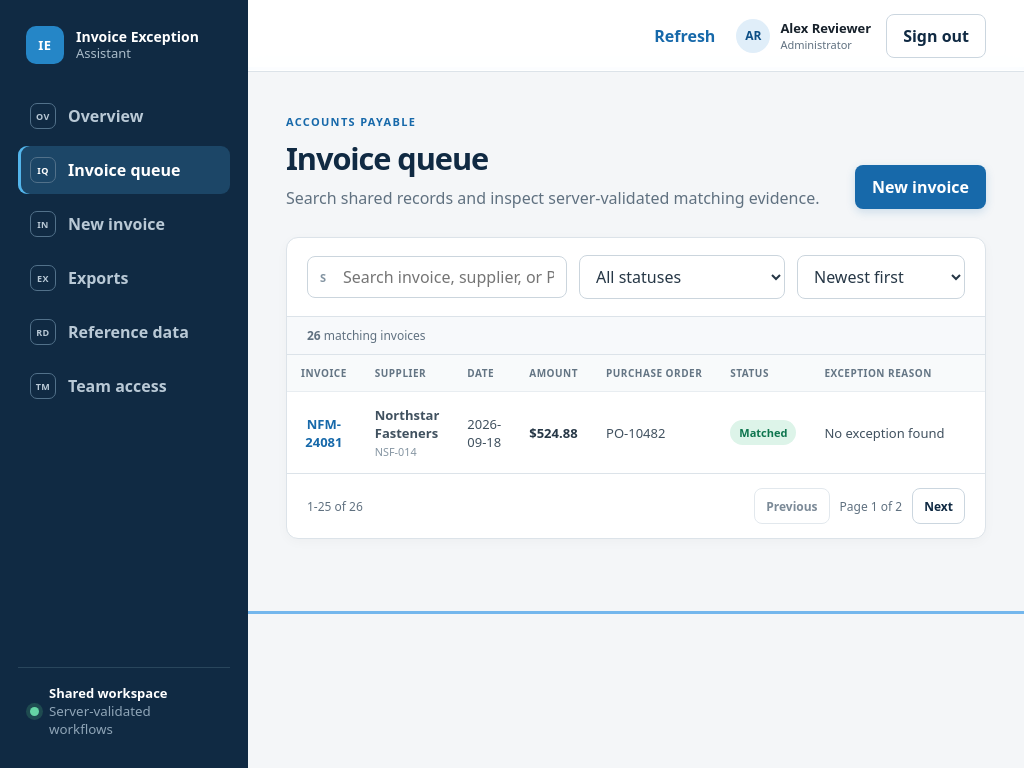
Scenario: dashboard and invoice queue › paginates large queues and displays request failures
Click the button "Next". click: (939,506)
box: [912,488,965,524]
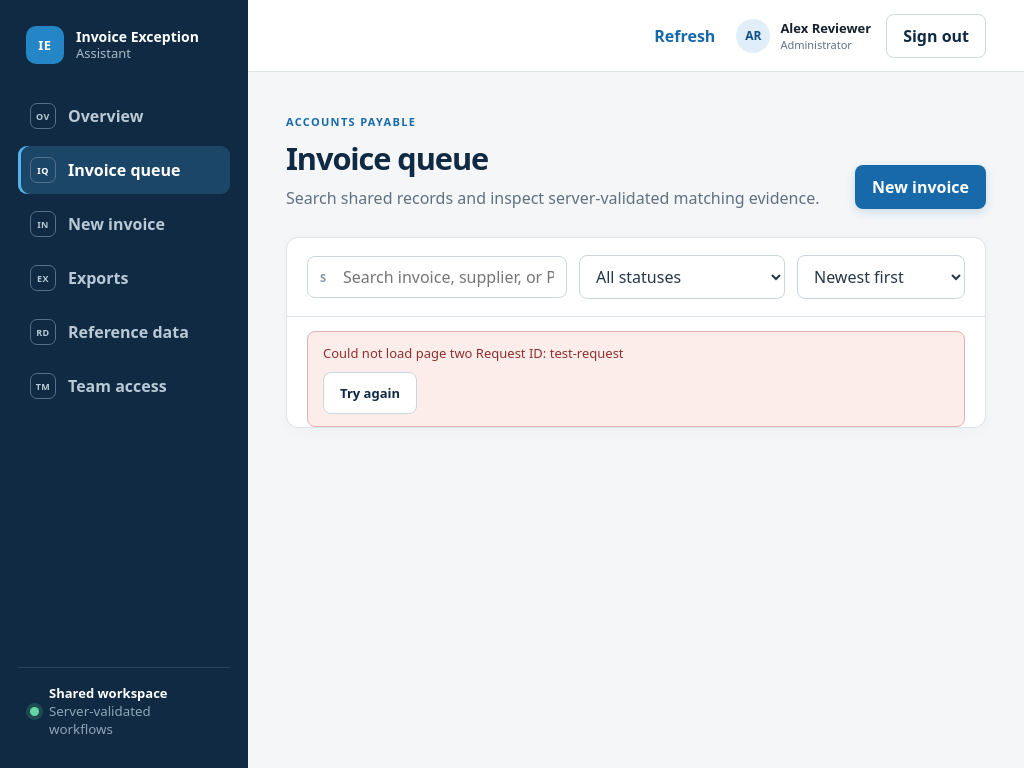
Check: the message shows "Could not load page two", box [323,344,624,362]
